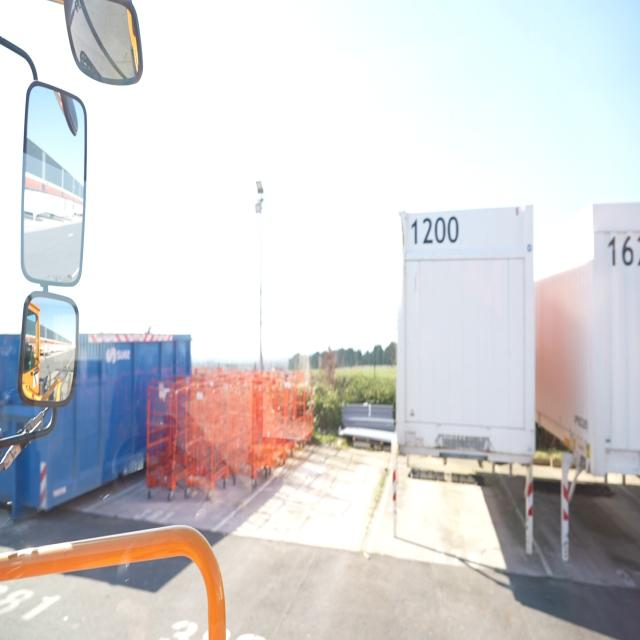Code: (407, 208, 461, 254)
